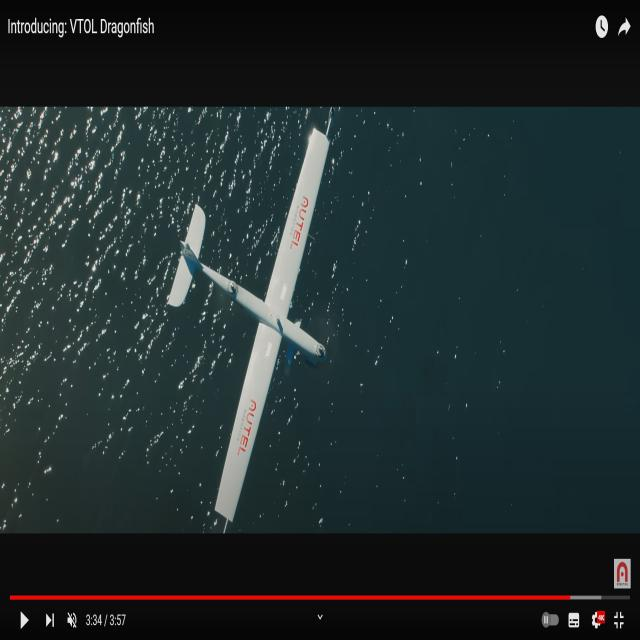iha: (180, 132, 334, 520)
